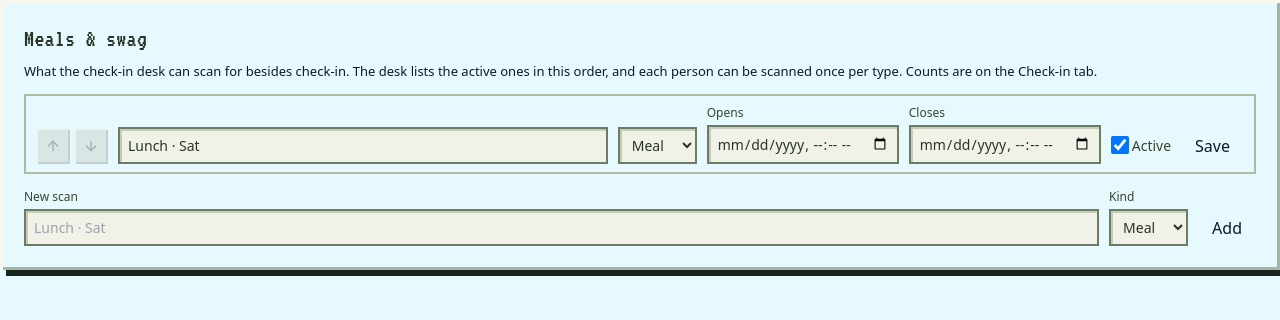
Test case: Meals & swag card › refuses a duplicate name before sending it, and words the database's refusal
This screenshot has width=1280, height=320.
In the field with placeholder "Lunch · Sat": (562, 227) [24,208,1099,246], type "LUNCH · SAT"
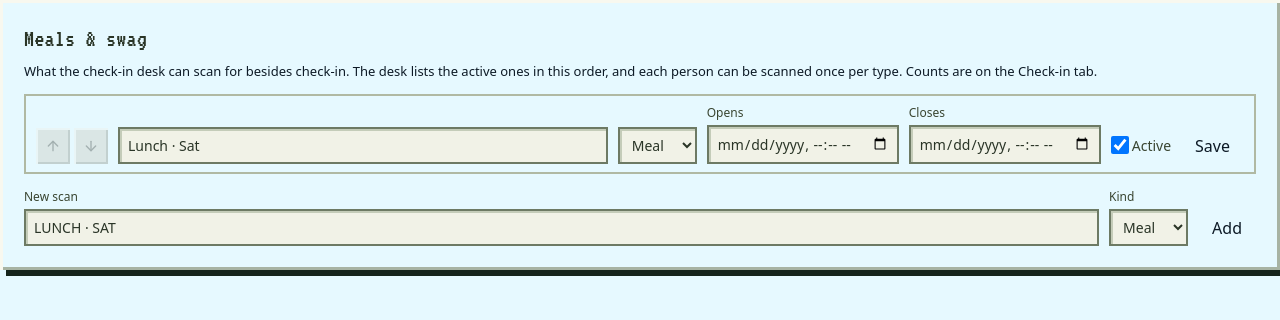
Click the button "Add": (1227, 228) [1198,210,1256,246]
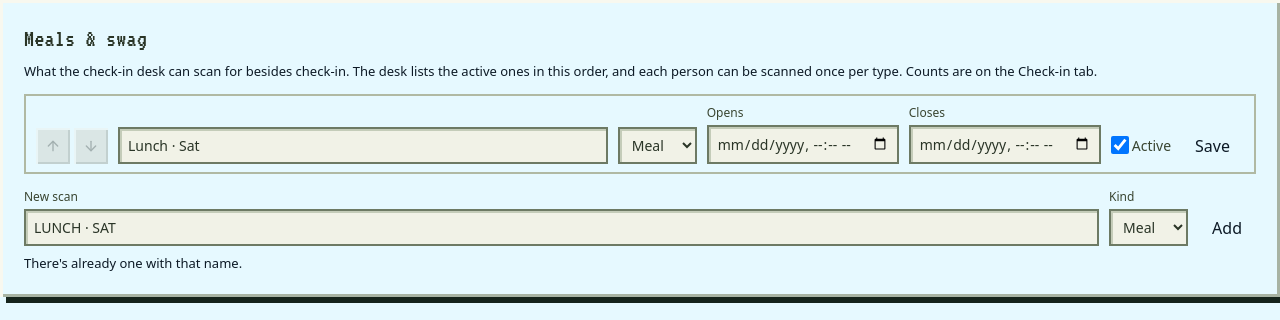
Expected: the message shows "already one", [24,254,242,272]
Replace the text in the field with placeholder "Lunch · Sat" with "Dinner · Sat": (562, 227) [24,208,1099,246]
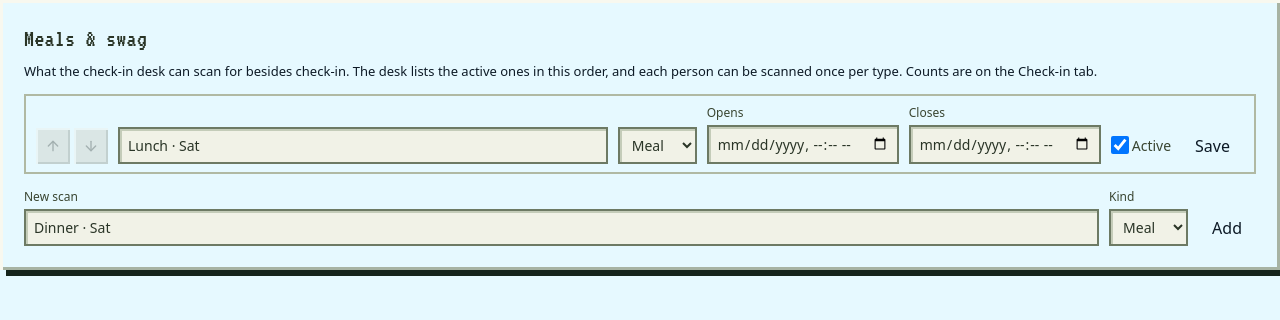
Click the button "Add": (1227, 228) [1198,210,1256,246]
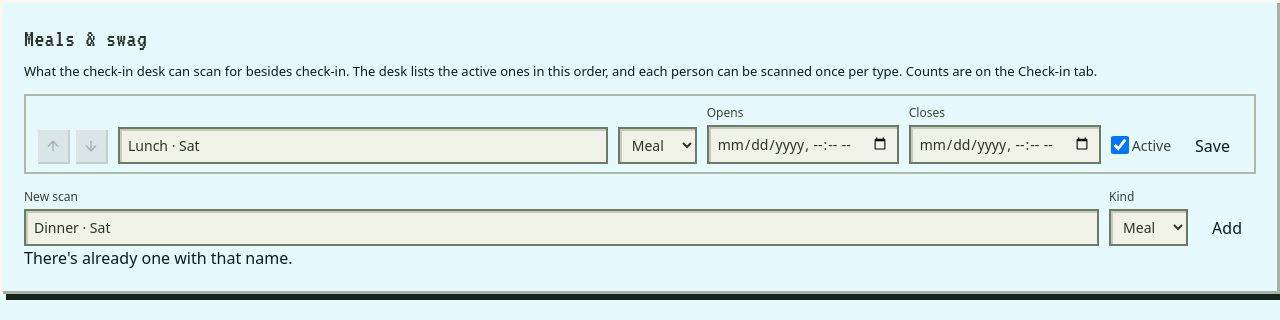
Expected: the message reads "There's already one with that name.", [24,246,292,268]
